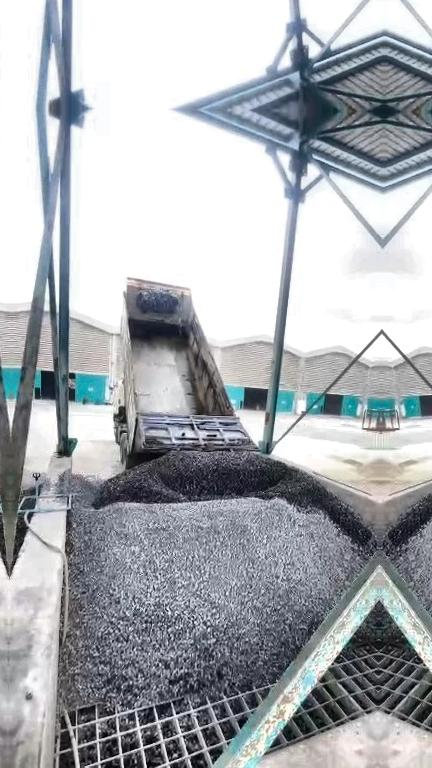gravel: (54, 451, 379, 707), (348, 603, 379, 647), (13, 514, 27, 562), (20, 479, 35, 510)
sand: (341, 454, 380, 497)
